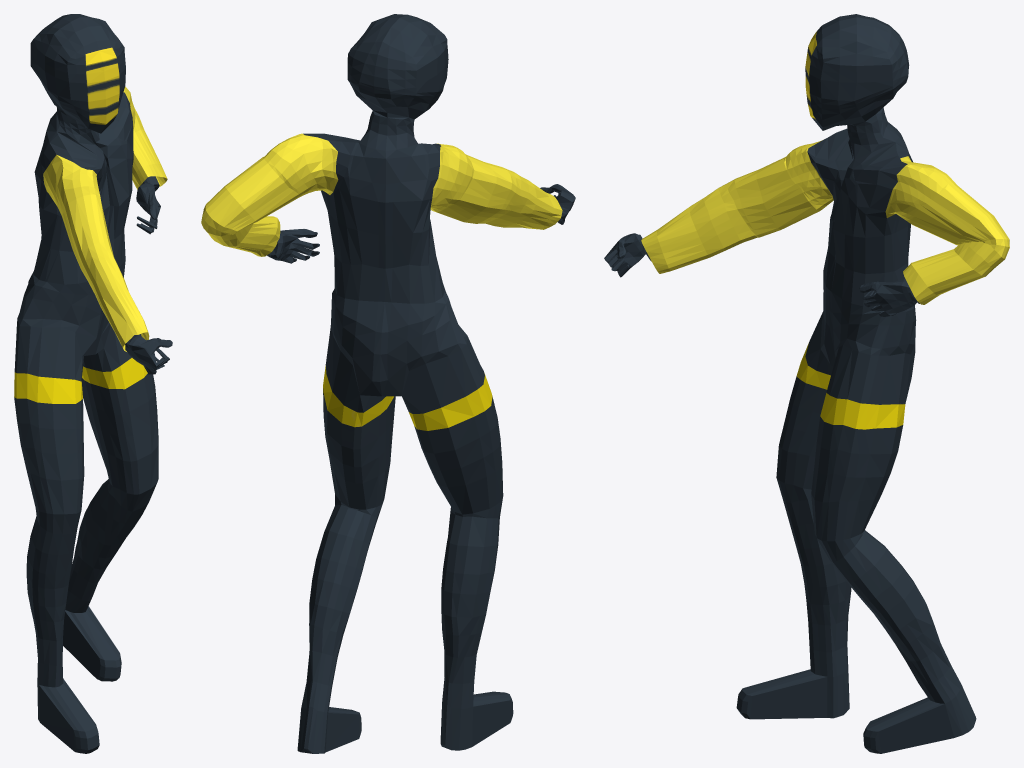
Rendered from Sentry_WB_000017.obj.
3 views of the same model, side by side, from view 1: azimuth 30°, elevation 25°; view 2: azimuth 150°, elevation 25°; view 3: azimuth 270°, elevation 25° (orthographic). The views are drawn at different scales.
Parts seen in each view (by area): view 1: Cube; view 2: Cube; view 3: Cube.
Boxes of the visible parts, <box> form: Cube: <box>14,14,172,753</box>; Cube: <box>201,14,575,753</box>; Cube: <box>604,14,1009,753</box>.
Size of the model in its own units: 1.16 by 3.88 by 1.98.
